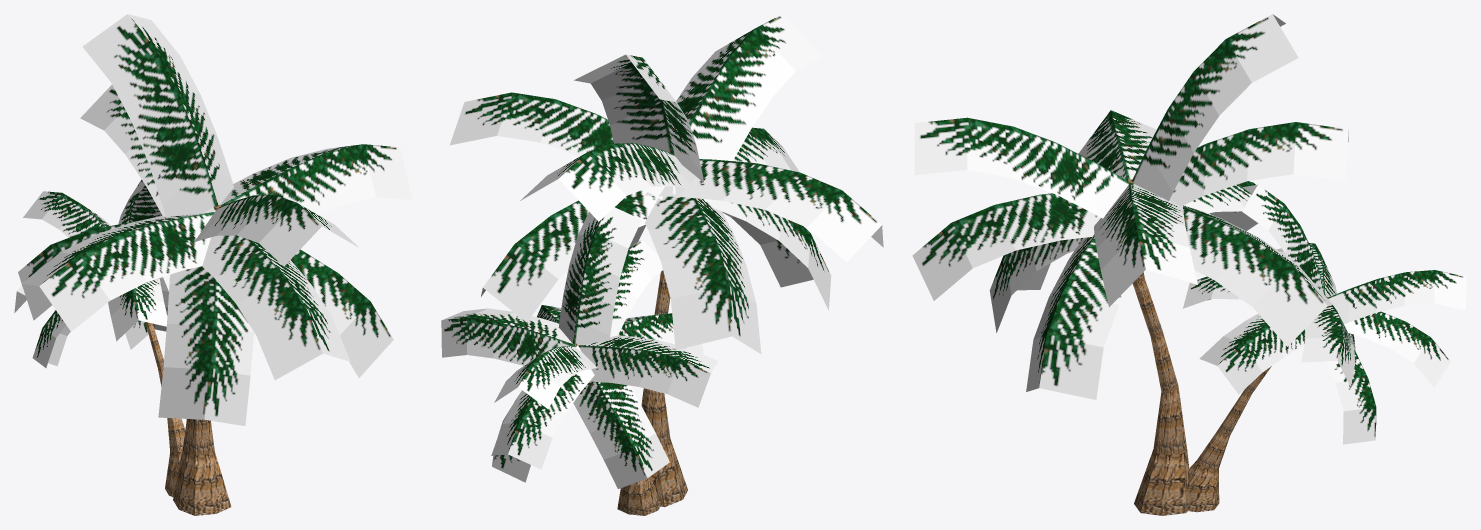
The model's file is PalmTree_3.glb.
3 views of the same model, side by side, from view 1: azimuth 30°, elevation 25°; view 2: azimuth 150°, elevation 25°; view 3: azimuth 270°, elevation 25° (orthographic). The views are drawn at different scales.
Visible parts, largest first — view 1: PalmTree3; view 2: PalmTree3; view 3: PalmTree3.
Part boxes in pixels (x1=…): PalmTree3: x1=14, y1=14, x2=412, y2=515; PalmTree3: x1=441, y1=14, x2=883, y2=515; PalmTree3: x1=912, y1=14, x2=1466, y2=515.
Size of the model in its own units: 25.64 by 29.71 by 31.2.
2 materials, 2 textured.
